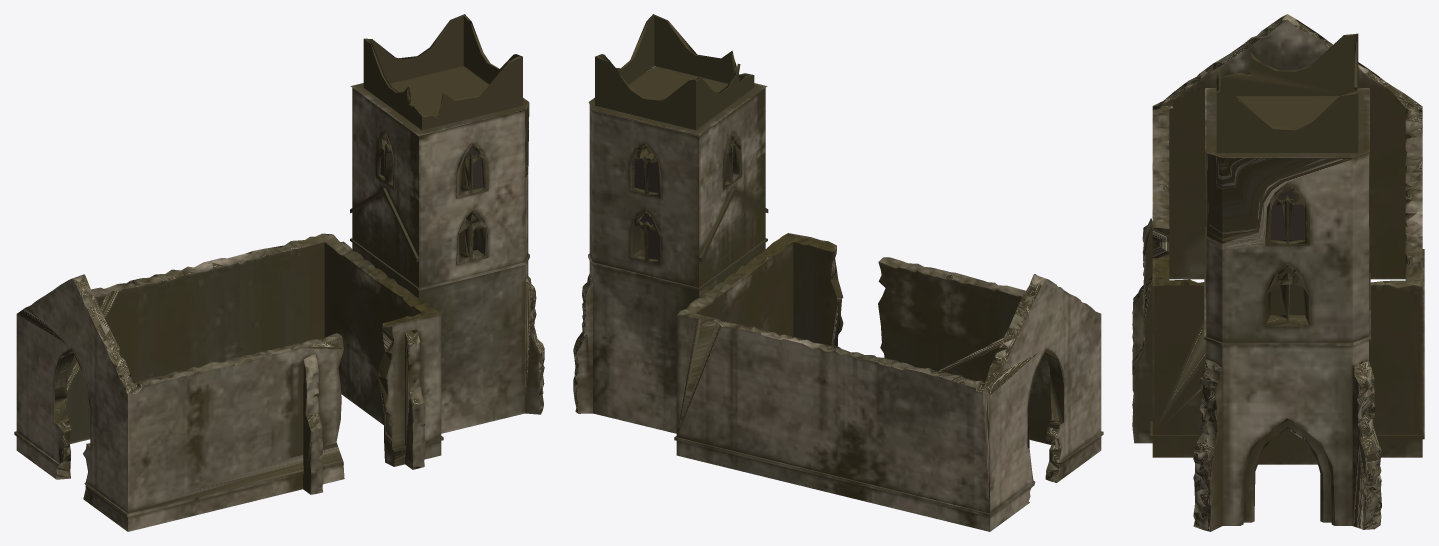
The model's file is church-ruins.zfix-v14.lod0.glb.
The picture shows the model from 3 angles, left to right: view 1: azimuth 30°, elevation 25°; view 2: azimuth 150°, elevation 25°; view 3: azimuth 270°, elevation 25°; orthographic projection. The views are drawn at different scales.
Parts seen in each view (by area): view 1: Object_11, Object_4, Object_8; view 2: Object_11, Object_4, Object_8; view 3: Object_11, Object_4, Object_8.
Boxes of the visible parts, box(x1,y1,x2,y2) form: Object_11: box(14, 66, 544, 531); Object_4: box(350, 14, 522, 261); Object_8: box(53, 132, 488, 448); Object_11: box(573, 66, 1103, 531); Object_4: box(595, 14, 768, 261); Object_8: box(629, 132, 1063, 448); Object_11: box(1132, 14, 1424, 531); Object_4: box(1216, 33, 1358, 239); Object_8: box(1205, 153, 1369, 326).
Size of the model in its own units: 18.3 by 13.98 by 8.65.
Materials: 3 (2 with a texture image).
